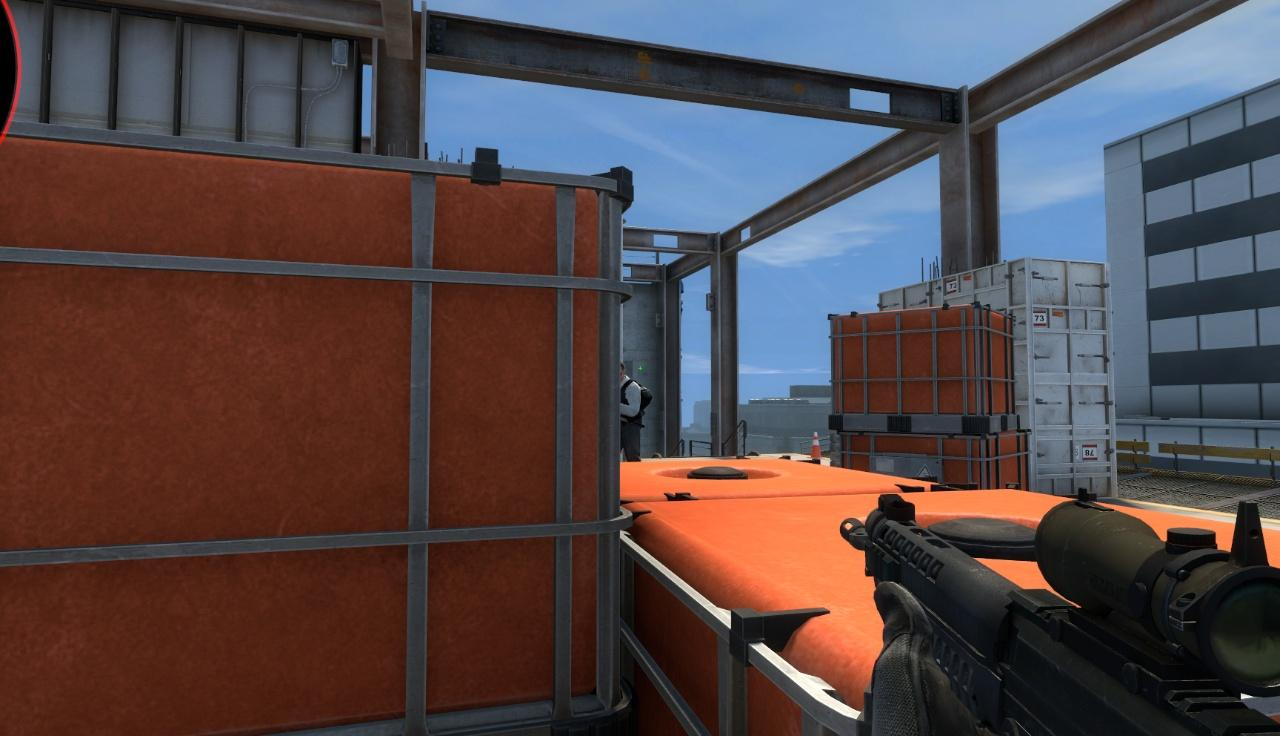rifle: (840, 478, 1280, 736)
tt: (620, 361, 650, 458)
